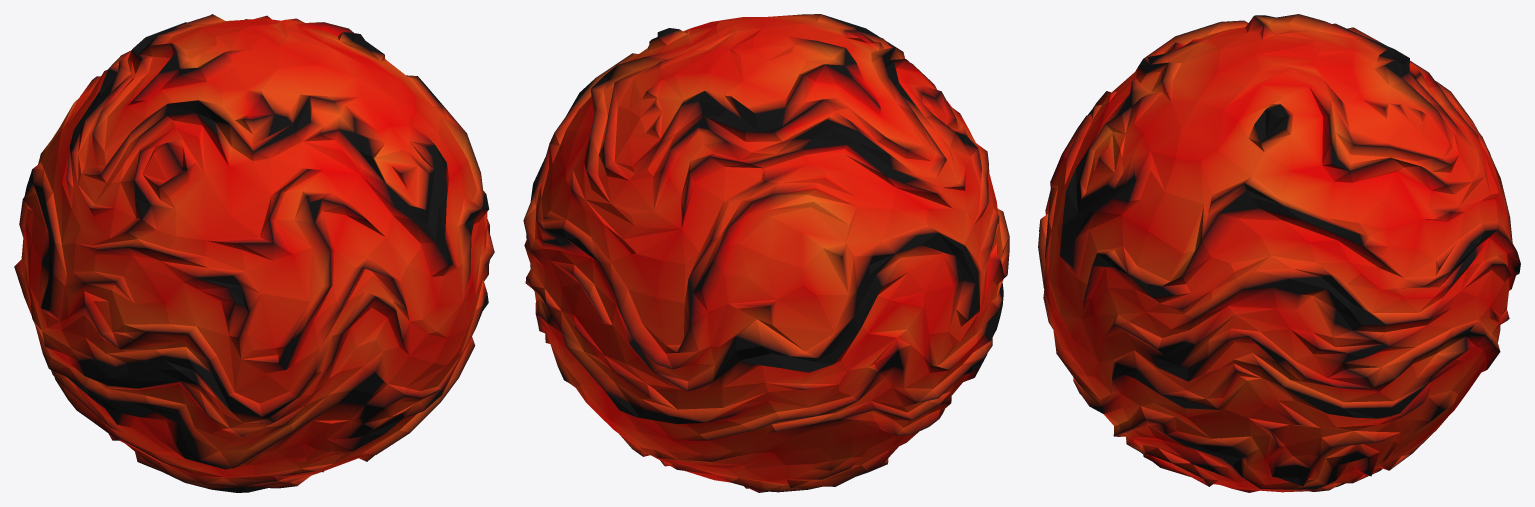
File: volcanic_planet_16.fbx
3 views of the same model, side by side, from view 1: azimuth 30°, elevation 25°; view 2: azimuth 150°, elevation 25°; view 3: azimuth 270°, elevation 25° (orthographic).
Visible parts, largest first — view 1: filecache2; view 2: filecache2; view 3: filecache2.
Boxes of the visible parts, left/top/right/bottom form: filecache2: left=14, top=14, right=494, bottom=492; filecache2: left=523, top=14, right=1009, bottom=492; filecache2: left=1038, top=14, right=1520, bottom=492.
Bounding box in the file's own units: 2.06 × 2.04 × 2.07.
